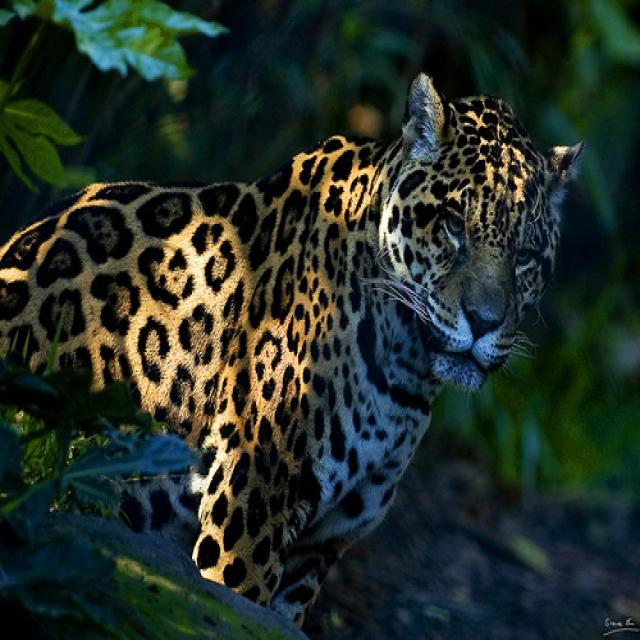Leopard: (0, 69, 602, 590)
